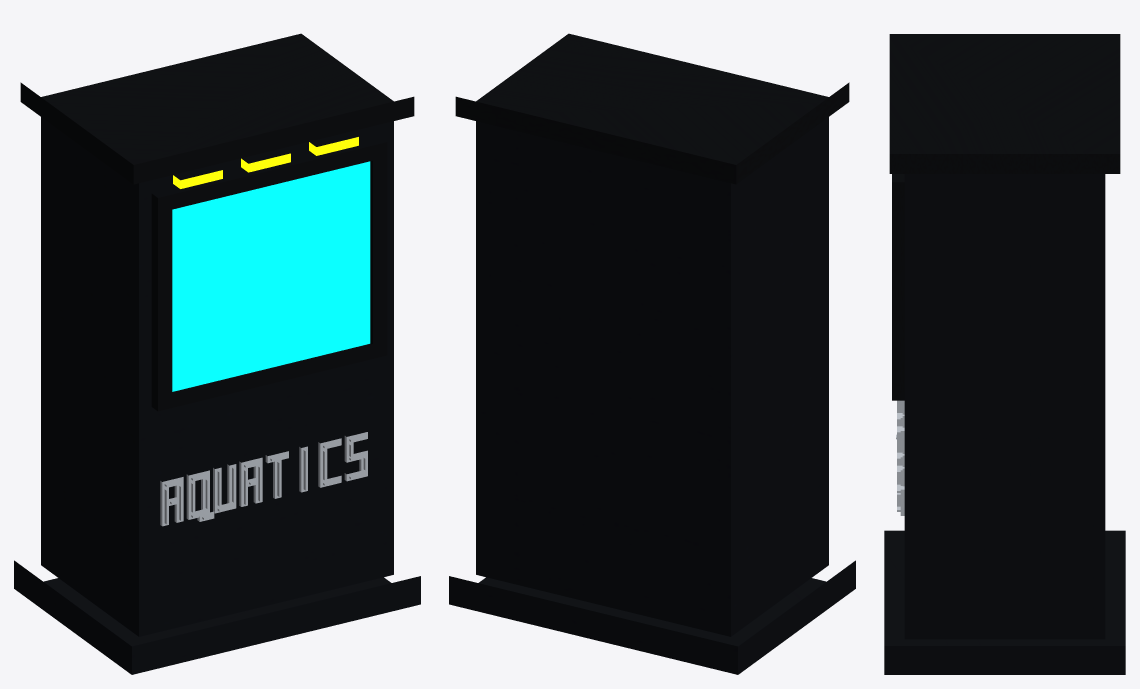
Rendered from v4_rally_plinth.glb.
3 renders of one model, left to right at view 1: azimuth 30°, elevation 25°; view 2: azimuth 150°, elevation 25°; view 3: azimuth 270°, elevation 25°, orthographic. The views are drawn at different scales.
Parts seen in each view (by area): view 1: Plinth_Body, Info_Screen, Plinth_Top, Screen_Frame, Wayfinding_Glyphs, Score_Cells; view 2: Plinth_Body, Plinth_Top; view 3: Plinth_Body, Plinth_Top, Screen_Frame, Wayfinding_Glyphs.
Boxes of the visible parts, x1,y1,x2,y2 form: Plinth_Body: (14, 117, 420, 674); Info_Screen: (172, 161, 370, 391); Plinth_Top: (20, 33, 414, 184); Screen_Frame: (151, 142, 387, 411); Wayfinding_Glyphs: (160, 432, 367, 526); Score_Cells: (173, 137, 358, 188); Plinth_Body: (449, 117, 855, 674); Plinth_Top: (455, 33, 849, 184); Plinth_Body: (884, 174, 1125, 674); Plinth_Top: (889, 34, 1120, 173); Screen_Frame: (892, 174, 904, 400); Wayfinding_Glyphs: (896, 400, 904, 515).
Size of what is drawn, in the model's own units: 0.68 by 1.14 by 0.48.
5 materials, 3 textured.
